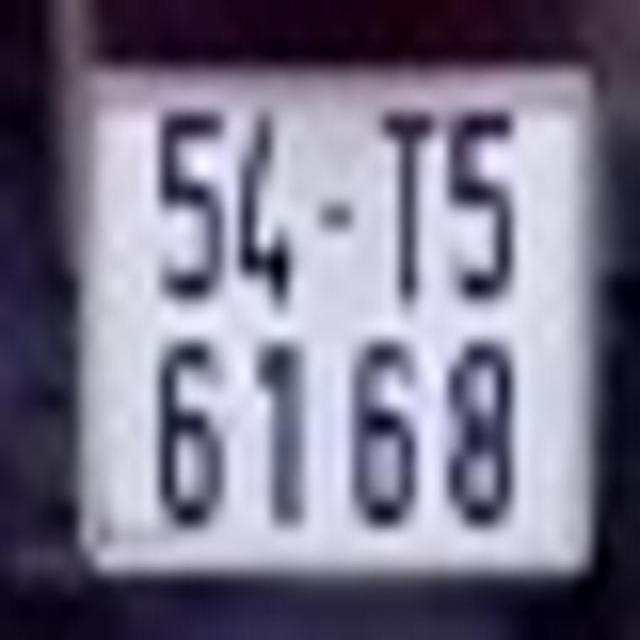1: (249, 331, 314, 527)
4: (234, 98, 297, 306)
5: (149, 100, 230, 308), (446, 101, 524, 316)
6: (149, 330, 234, 536), (347, 330, 421, 537)
8: (439, 335, 516, 532)
T: (378, 97, 441, 314)
